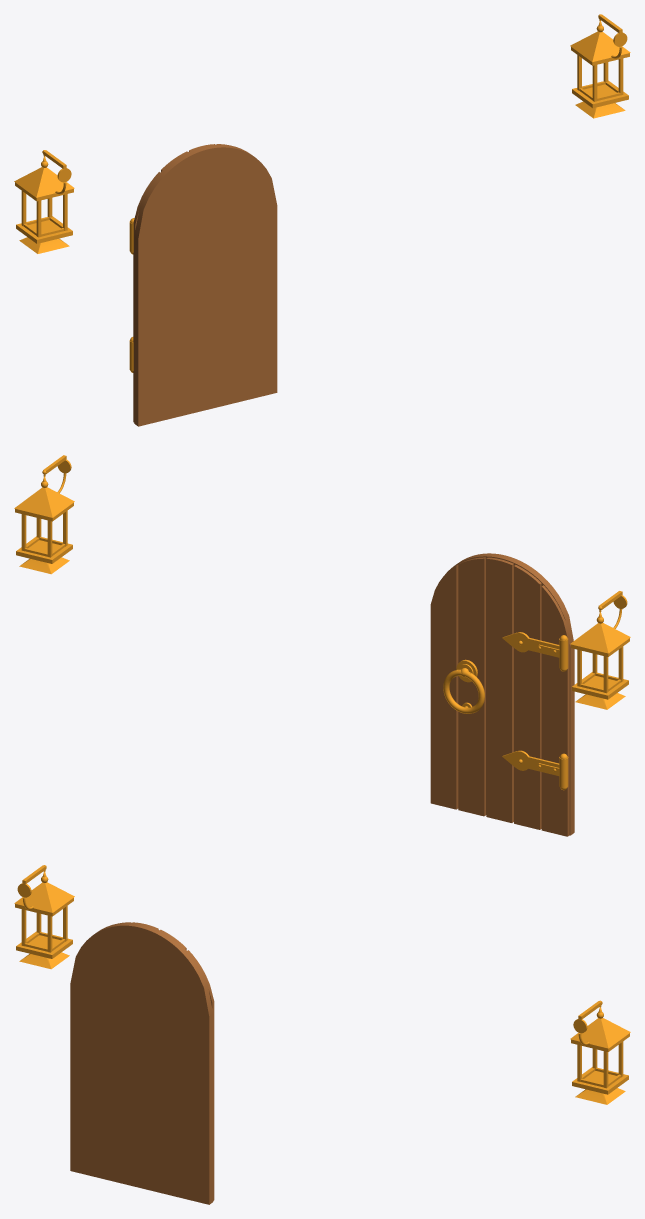
Rendered from HaloShop_Bakery_ornaments.glb.
The picture shows the model from 3 angles, top to bottom: view 1: azimuth 30°, elevation 25°; view 2: azimuth 150°, elevation 25°; view 3: azimuth 330°, elevation 25°; orthographic projection.
Visible parts, largest first — view 1: Orn_HaloShop_Bakery_Leaf, Orn_HaloShop_Bakery_Lantern0, Orn_HaloShop_Bakery_Lantern1; view 2: Orn_HaloShop_Bakery_Leaf, Orn_HaloShop_Bakery_Lantern1, Orn_HaloShop_Bakery_Lantern0, Orn_HaloShop_Bakery_Hinge1, Orn_HaloShop_Bakery_Hinge0, Orn_HaloShop_Bakery_Knocker; view 3: Orn_HaloShop_Bakery_Leaf, Orn_HaloShop_Bakery_Lantern1, Orn_HaloShop_Bakery_Lantern0.
Boxes of the visible parts, bbox=[...] form: Orn_HaloShop_Bakery_Leaf: bbox=[133, 144, 277, 426]; Orn_HaloShop_Bakery_Lantern0: bbox=[570, 14, 630, 118]; Orn_HaloShop_Bakery_Lantern1: bbox=[14, 150, 74, 253]; Orn_HaloShop_Bakery_Leaf: bbox=[430, 553, 574, 836]; Orn_HaloShop_Bakery_Lantern1: bbox=[570, 591, 630, 709]; Orn_HaloShop_Bakery_Lantern0: bbox=[14, 455, 74, 574]; Orn_HaloShop_Bakery_Hinge1: bbox=[502, 632, 568, 671]; Orn_HaloShop_Bakery_Hinge0: bbox=[502, 750, 568, 790]; Orn_HaloShop_Bakery_Knocker: bbox=[443, 659, 484, 713]; Orn_HaloShop_Bakery_Leaf: bbox=[70, 922, 214, 1204]; Orn_HaloShop_Bakery_Lantern1: bbox=[14, 865, 74, 969]; Orn_HaloShop_Bakery_Lantern0: bbox=[570, 1000, 630, 1104].
Bounding box in the file's own units: 18.4 × 7.88 × 2.42.
